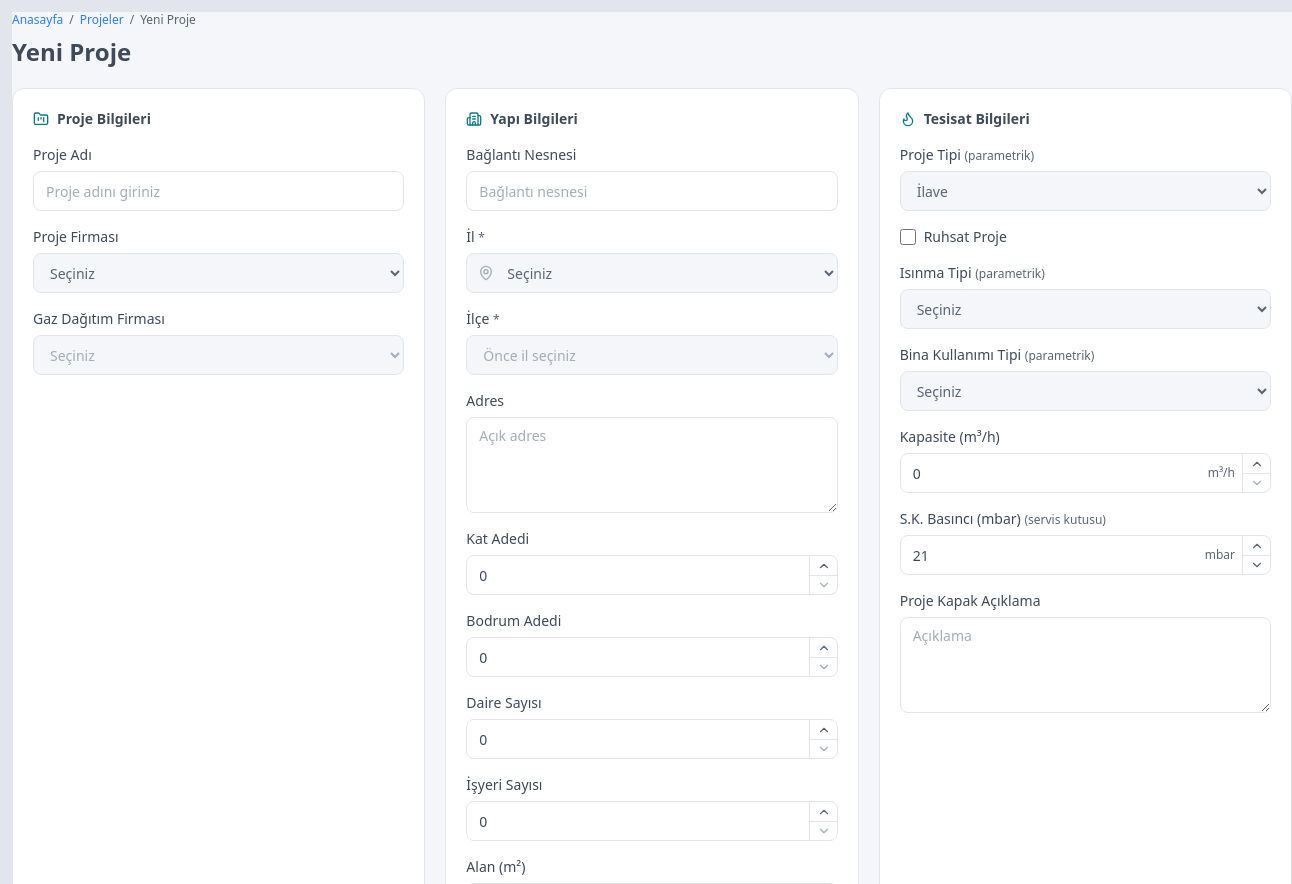
Test: NewProjectPage — çerçeve ve varsayılanlar › daire sayısı elle tam sayı olarak yazılabilir, ondalık kabul etmez
This screenshot has width=1292, height=884.
Type "2,5" into the number field labelled "Daire Sayısı" at (652, 739), box [466, 719, 838, 759]
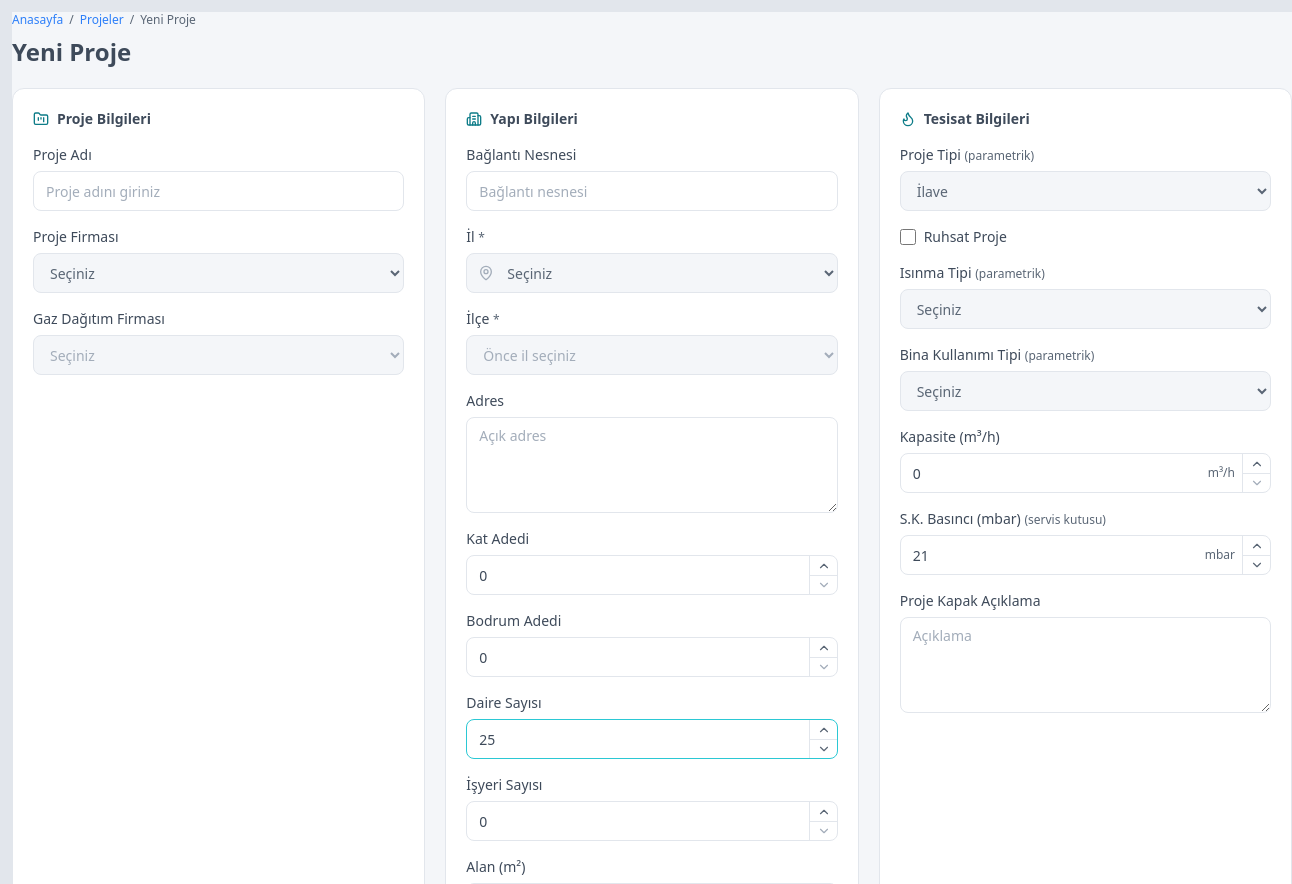
Now the number field labelled "Daire Sayısı" holds "25", box [466, 719, 838, 759]
